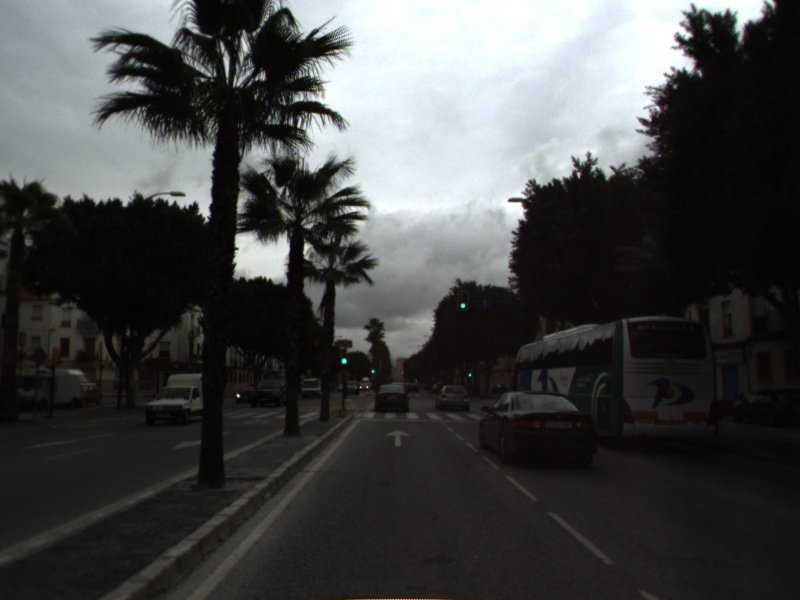STRAIGHT: (384, 427, 413, 448)
